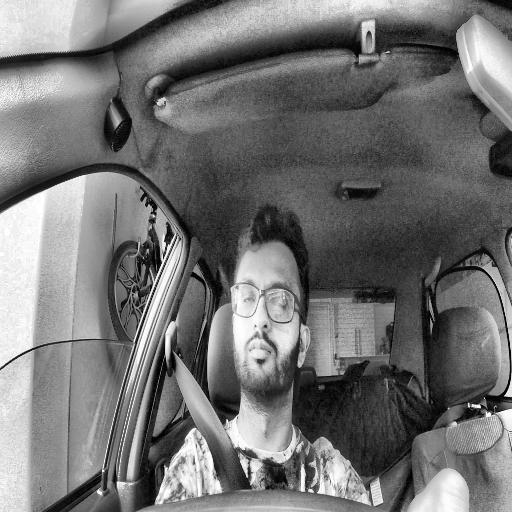drowsy: (230, 204, 311, 402)
